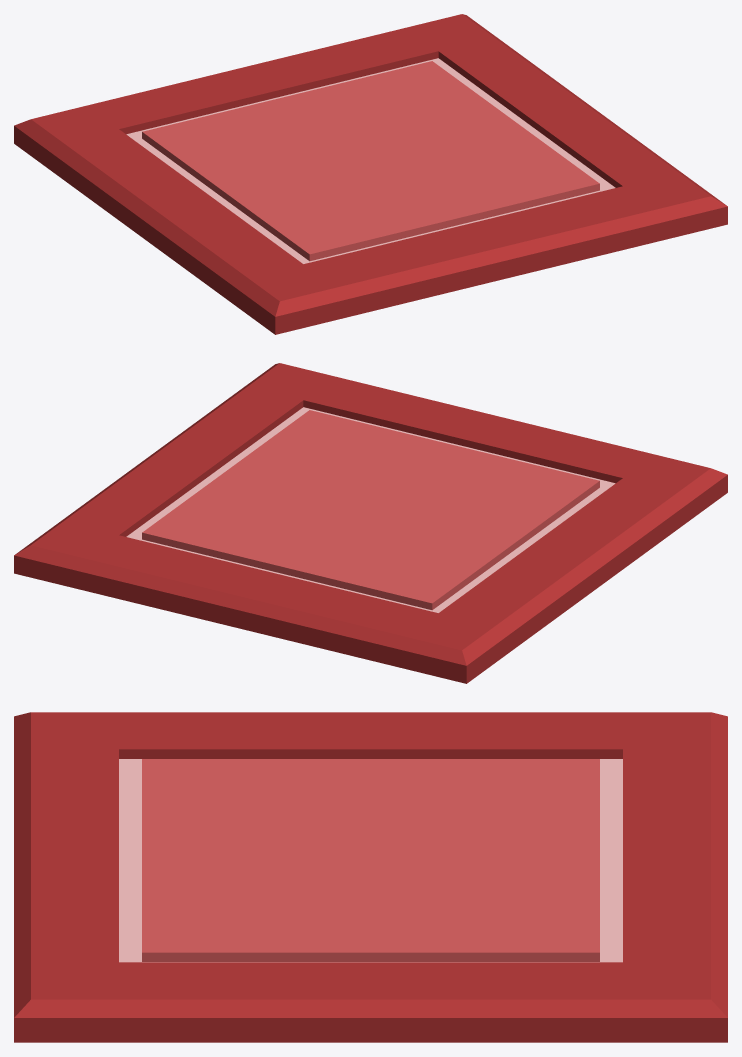
The model's file is RED_TILE.fbx.
3 views of the same model, one above another, from view 1: azimuth 30°, elevation 25°; view 2: azimuth 150°, elevation 25°; view 3: azimuth 270°, elevation 25° (orthographic). The views are drawn at different scales.
Parts seen in each view (by area): view 1: pCube1; view 2: pCube1; view 3: pCube1.
Part boxes in pixels (x1,y1,x2,y2): pCube1: (14,14,727,334); pCube1: (14,363,727,683); pCube1: (14,712,727,1042).
Bounding box in the file's own units: 8 × 0.4456 × 8.
Materials: 1 (1 with a texture image).
